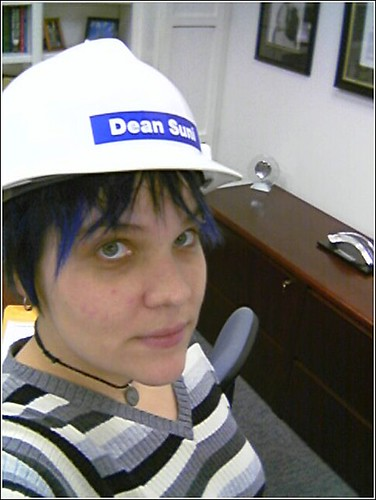person hardhat: (2, 35, 268, 497)
